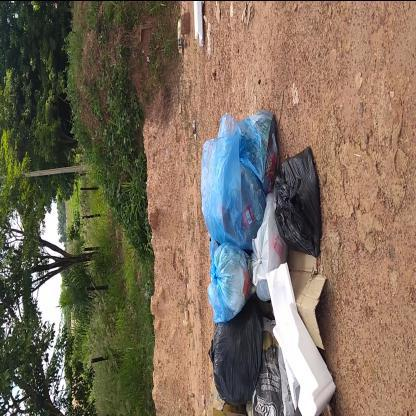lixo: (209, 132, 324, 412)
